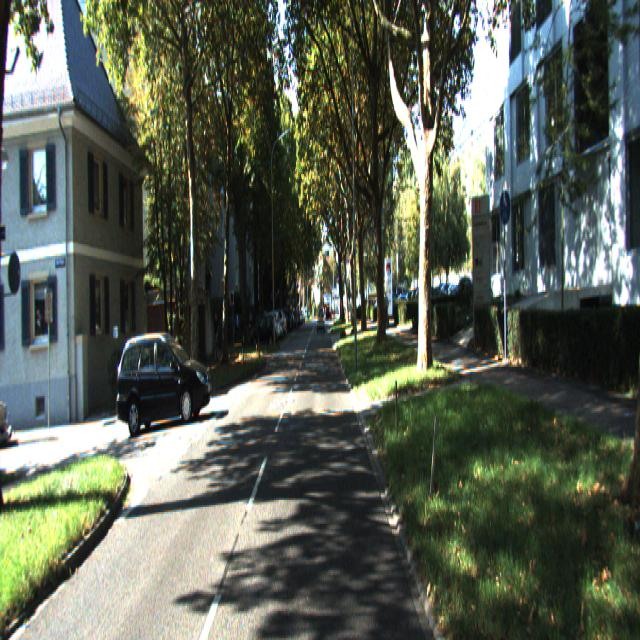Car: (116, 332, 212, 436), (250, 312, 274, 346)
